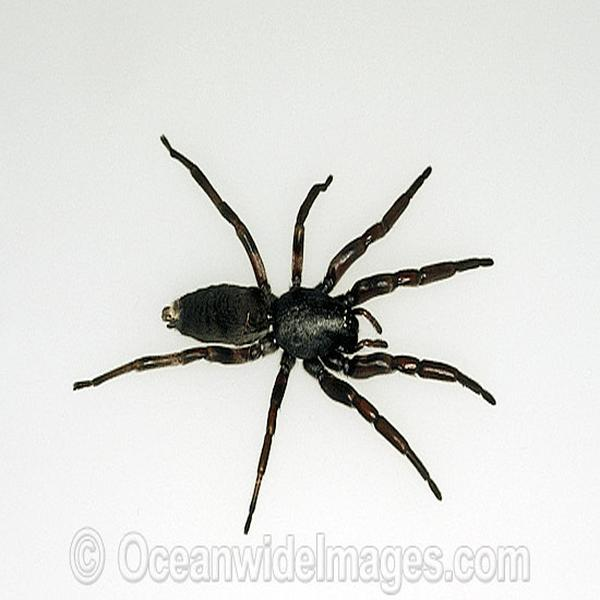White-Tailed_Spider: (73, 132, 495, 529)
